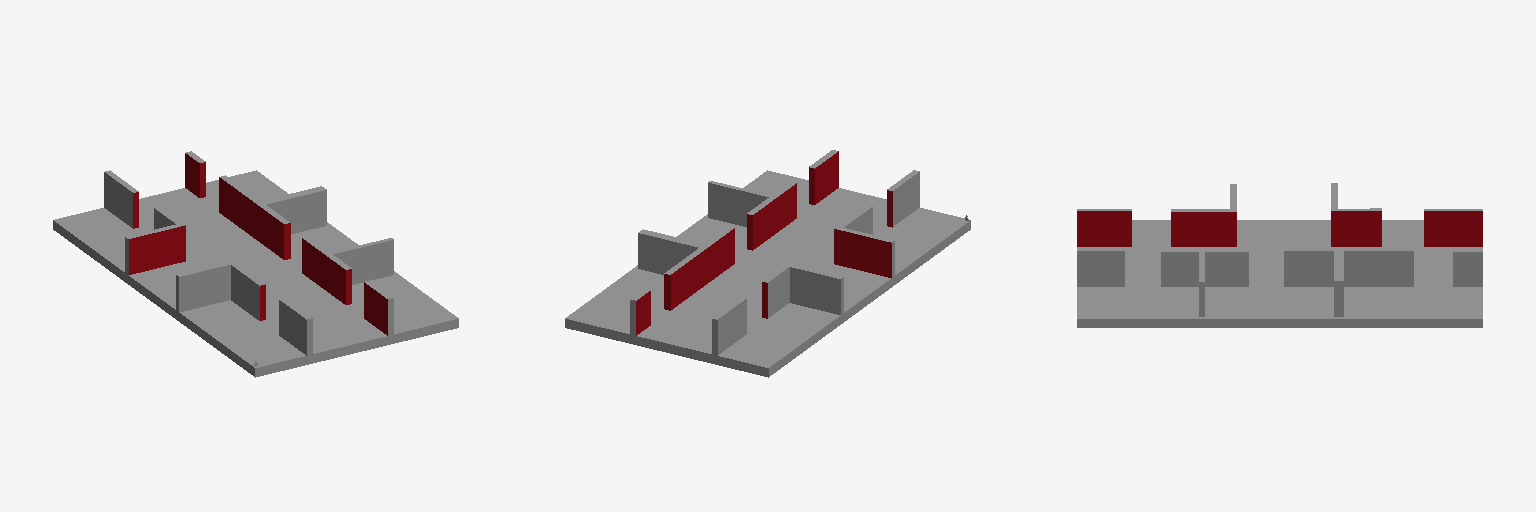
Rendered from casa.obj.
The picture shows the model from 3 angles: view 1: azimuth 30°, elevation 25°; view 2: azimuth 150°, elevation 25°; view 3: azimuth 270°, elevation 25°; orthographic projection.
Visible parts, largest first — view 1: Casa_Casa.001; view 2: Casa_Casa.001; view 3: Casa_Casa.001.
Boxes of the visible parts, x1,y1,x2,y2 form: Casa_Casa.001: [53, 151, 458, 377]; Casa_Casa.001: [565, 150, 970, 377]; Casa_Casa.001: [1077, 183, 1482, 327].
Size of the model in its own units: 8.52 by 1.86 by 14.67.